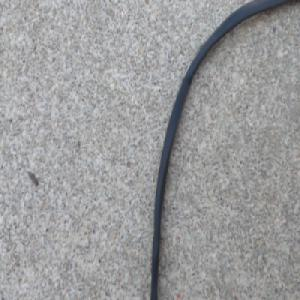Wire: (149, 1, 300, 300)
